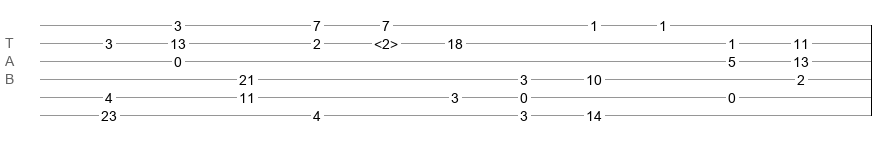0: (174, 54, 182, 64), (520, 90, 528, 100), (728, 90, 736, 100)
1: (590, 18, 598, 28), (659, 18, 667, 28), (728, 36, 736, 46)
10: (586, 72, 602, 82)
11: (239, 90, 255, 100), (793, 36, 809, 46)
13: (170, 36, 186, 46), (793, 54, 809, 64)
14: (586, 108, 602, 118)
18: (447, 36, 463, 46)
2: (313, 36, 321, 46), (797, 72, 805, 82)
21: (239, 72, 255, 82)
23: (101, 108, 117, 118)
3: (105, 36, 113, 46), (174, 18, 182, 28), (451, 90, 459, 100), (520, 72, 528, 82), (520, 108, 528, 118)
4: (105, 90, 113, 100), (313, 108, 321, 118)
5: (728, 54, 736, 64)
7: (313, 18, 321, 28), (382, 18, 390, 28)
harmonic: (374, 36, 398, 46)
